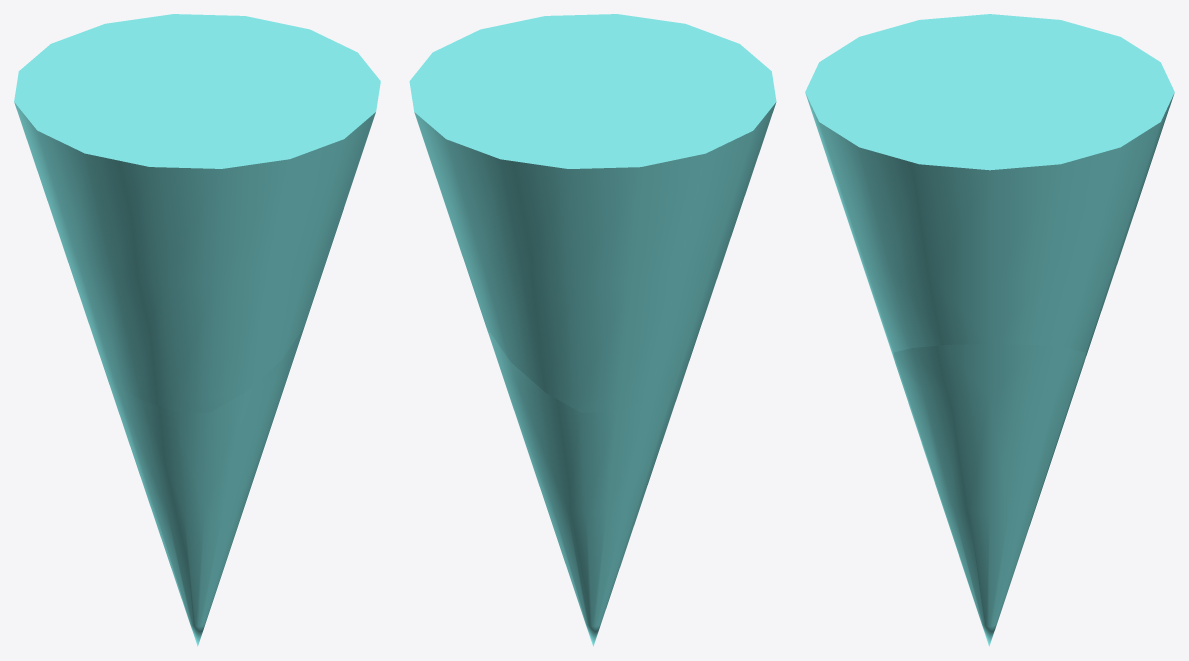
Rendered from bingzhui@posun.FBX.
3 renders of one model, left to right at view 1: azimuth 30°, elevation 25°; view 2: azimuth 150°, elevation 25°; view 3: azimuth 270°, elevation 25°, orthographic.
Visible parts, largest first — view 1: 冰锥_破碎 (×2); view 2: 冰锥_破碎 (×2); view 3: 冰锥_破碎 (×2).
Boxes of the visible parts, <box> form: 冰锥_破碎 (×2): <box>14,14,380,646</box>; 冰锥_破碎 (×2): <box>409,14,776,646</box>; 冰锥_破碎 (×2): <box>805,14,1174,646</box>.
Size of the model in its own units: 48.86 by 80.9 by 48.86.
